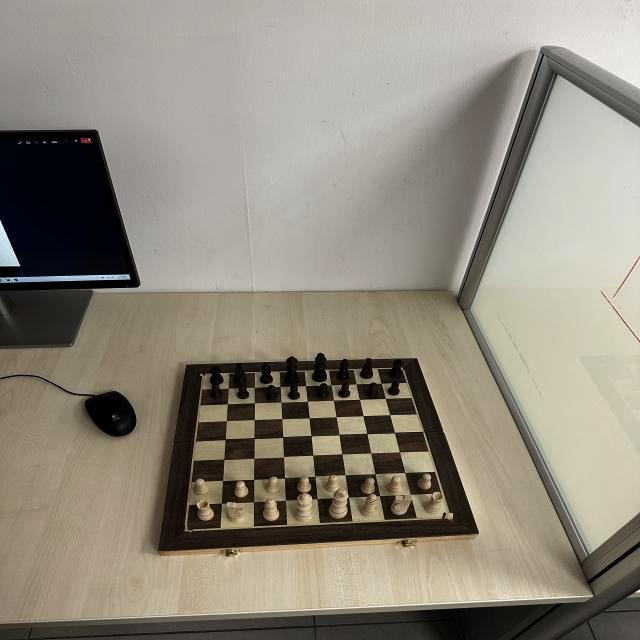chess-table-corners: (180, 526, 192, 534), (443, 512, 453, 520), (200, 372, 205, 377), (402, 366, 406, 370)
